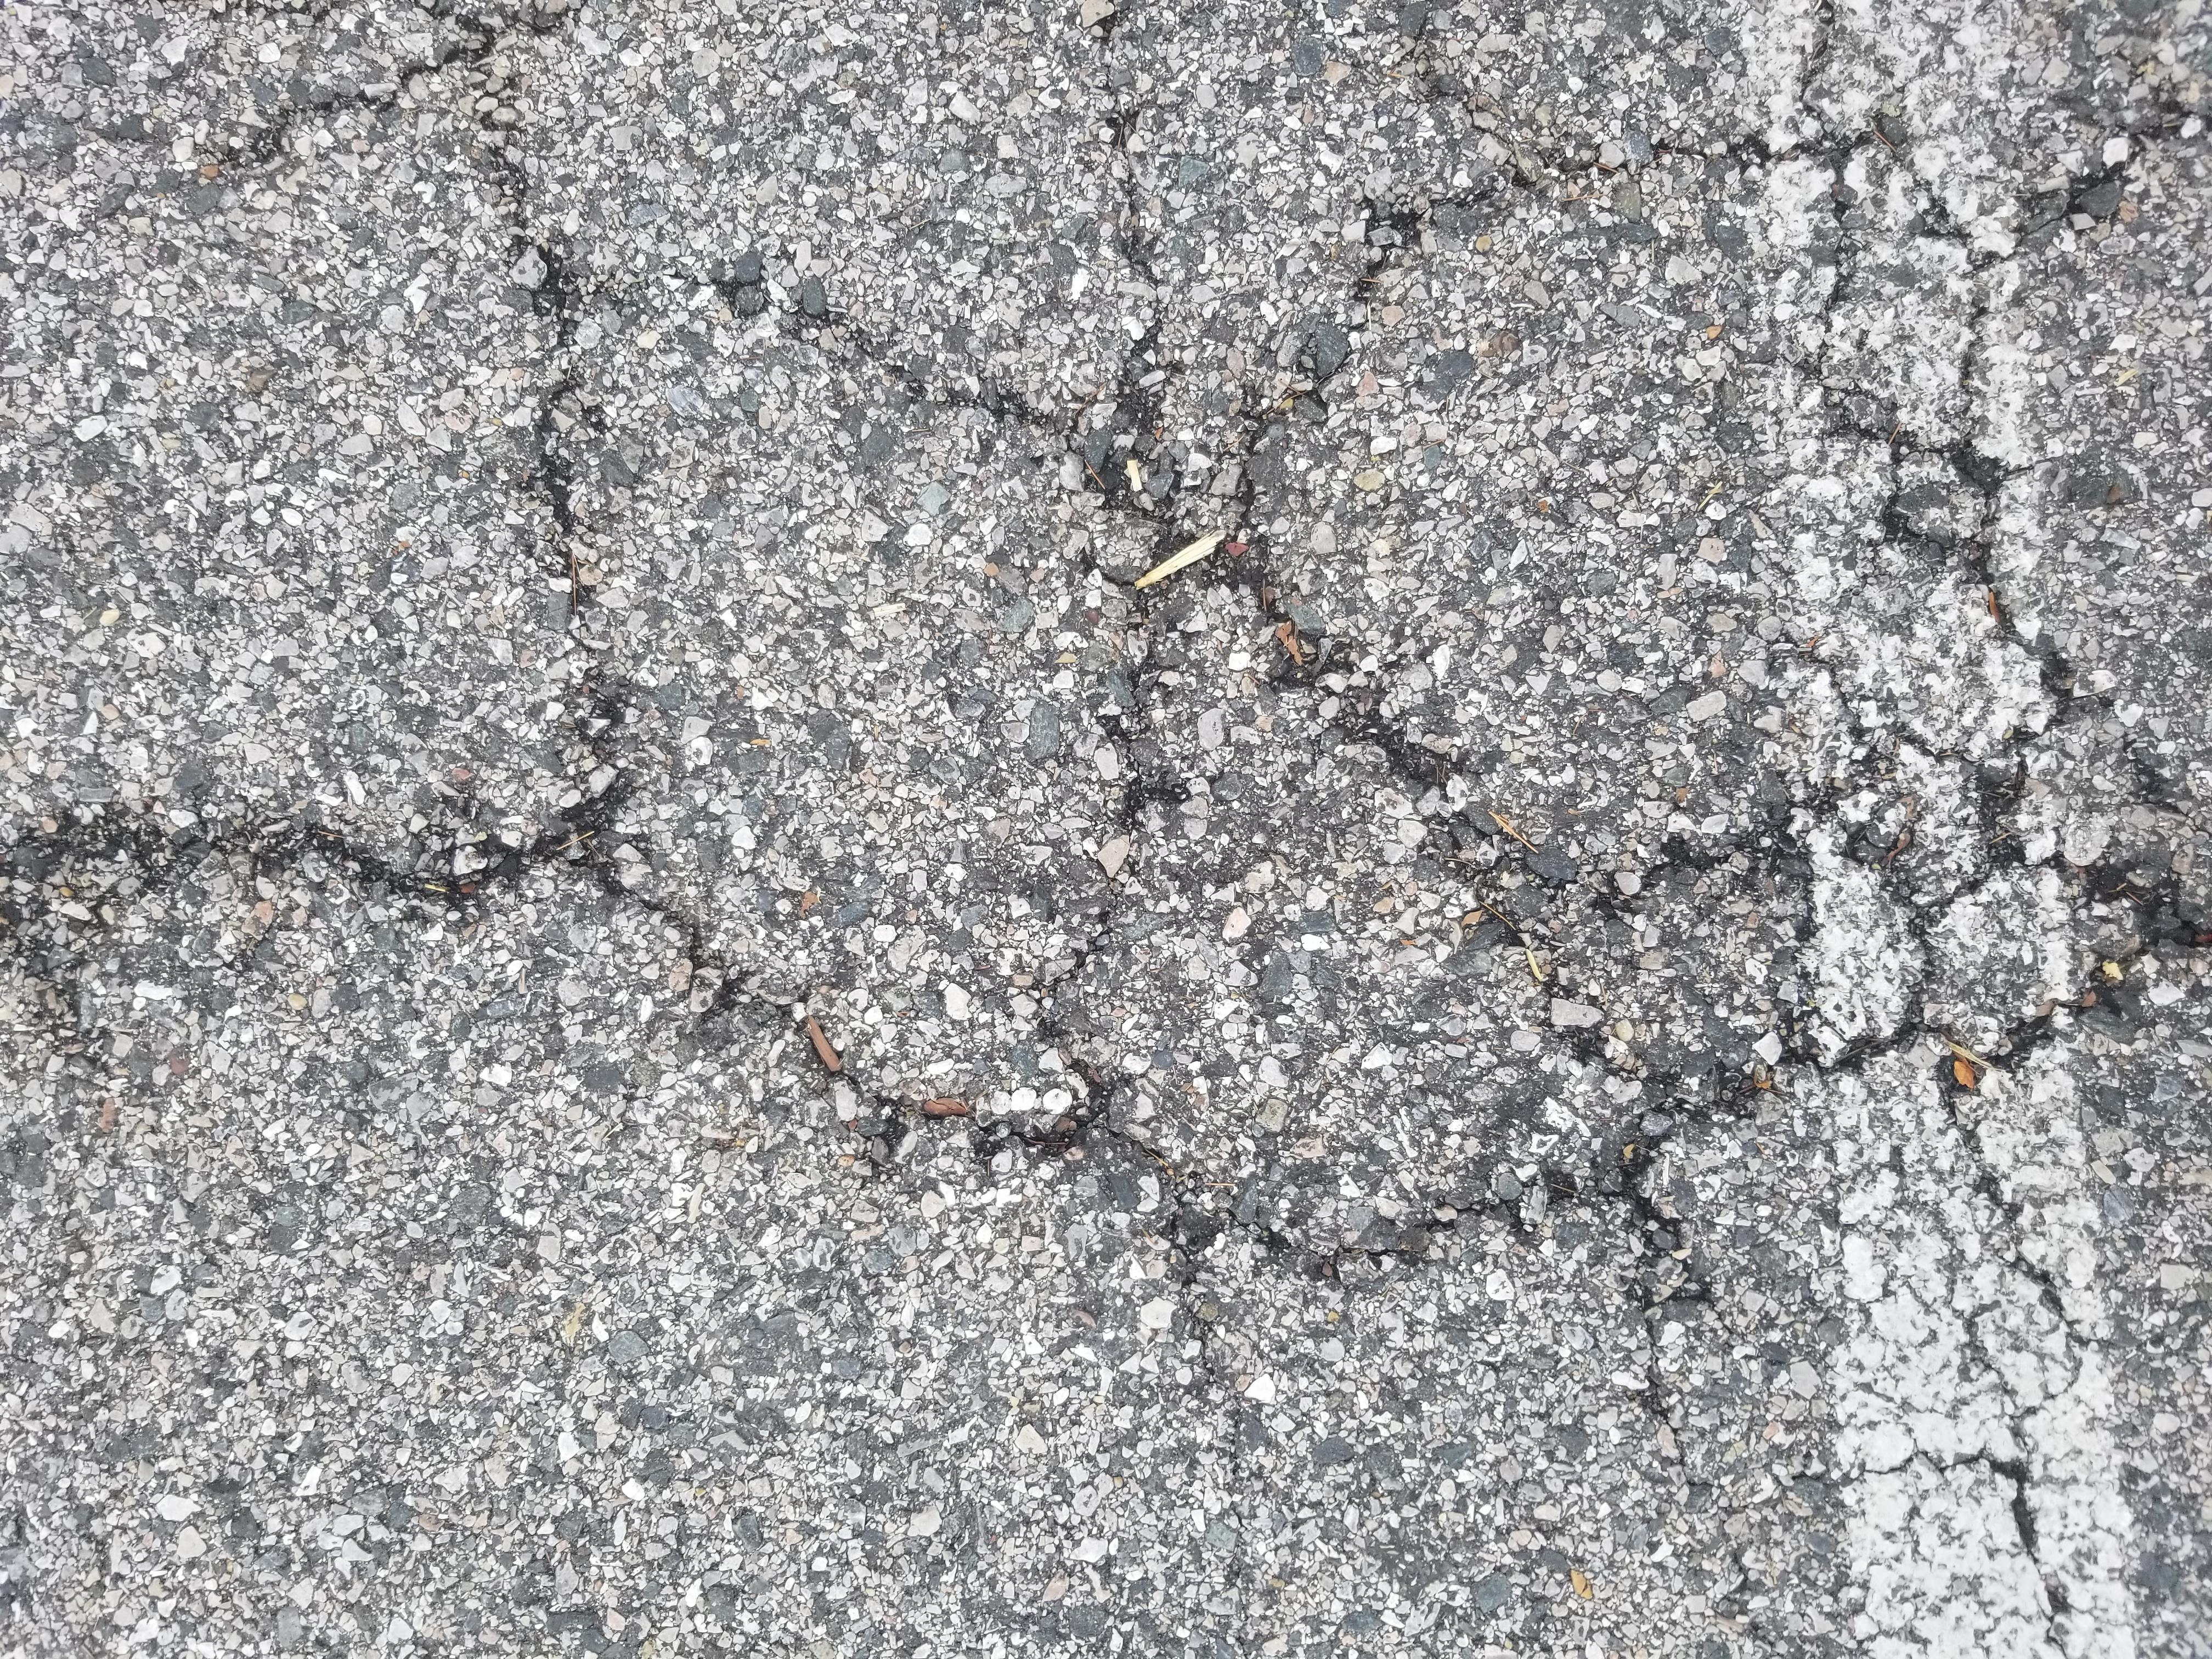alligator-crack: (416, 9, 2175, 1652)
